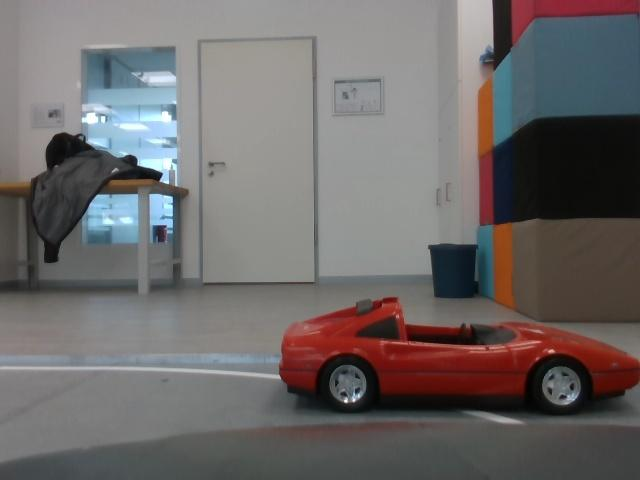car: (279, 292, 640, 420)
